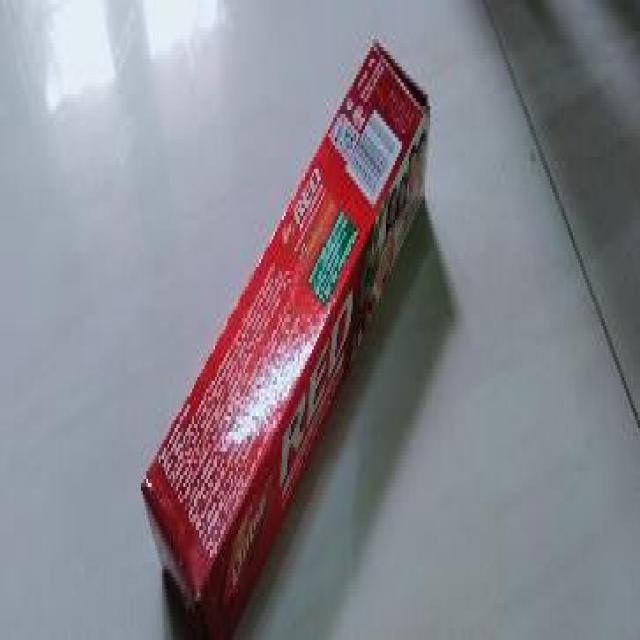tooth paste: (137, 45, 434, 629)
